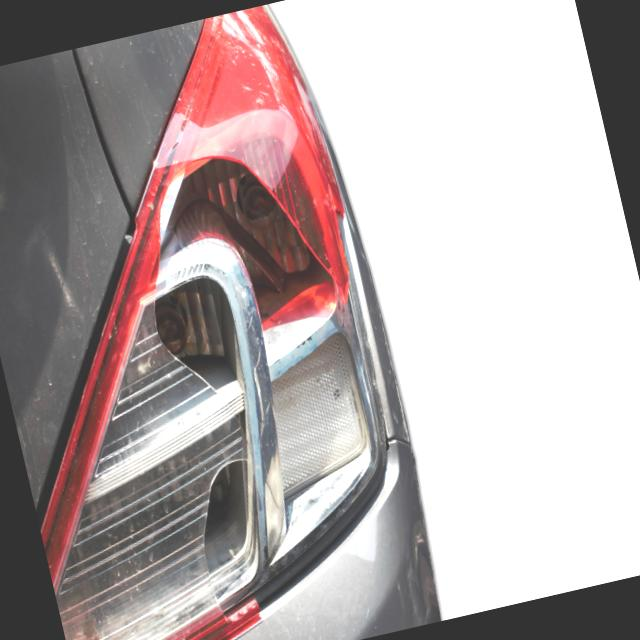Phare abime: (0, 127, 443, 640)
